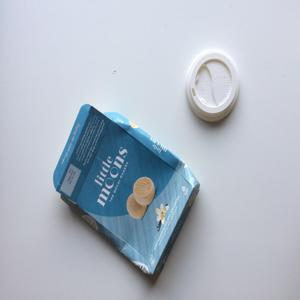cardboard: (48, 102, 205, 288)
plastic: (174, 49, 250, 124)
